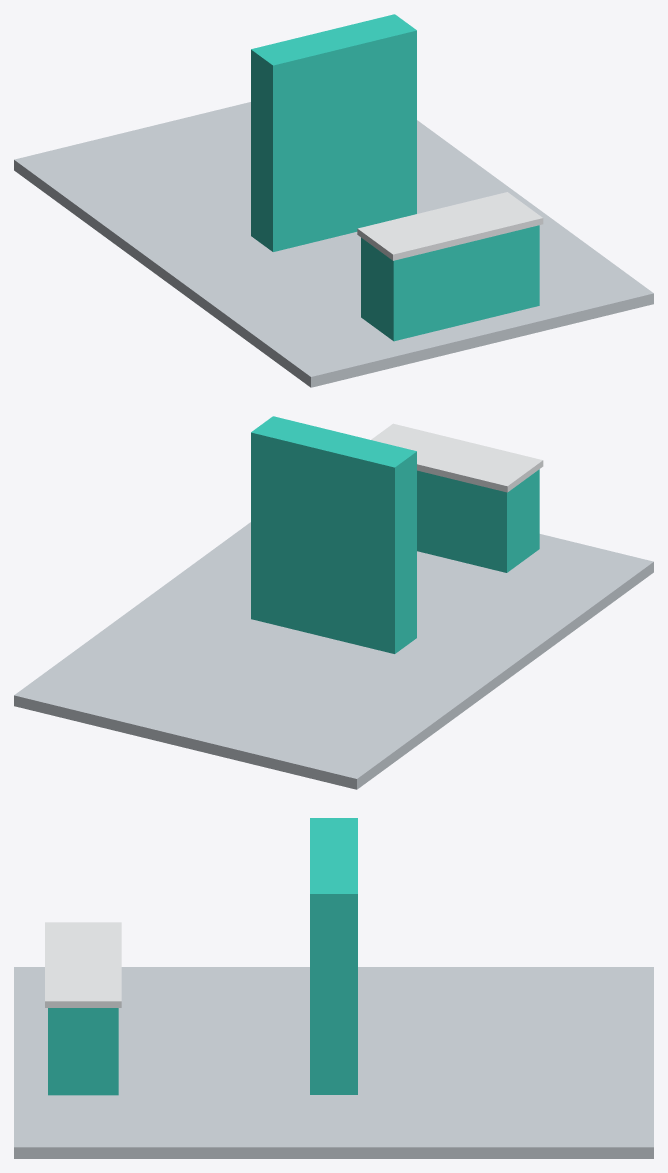
3 renders of one model, top to bottom at view 1: azimuth 30°, elevation 25°; view 2: azimuth 150°, elevation 25°; view 3: azimuth 270°, elevation 25°, orthographic. The views are drawn at different scales.
Parts seen in each view (by area): view 1: Exhibition Booth Concept; view 2: Exhibition Booth Concept; view 3: Exhibition Booth Concept.
Boxes of the visible parts, bbox=[...] form: Exhibition Booth Concept: bbox=[14, 14, 653, 387]; Exhibition Booth Concept: bbox=[14, 416, 653, 789]; Exhibition Booth Concept: bbox=[14, 818, 653, 1158].
Bounding box in the file's own units: 4 × 2.2 × 6.
